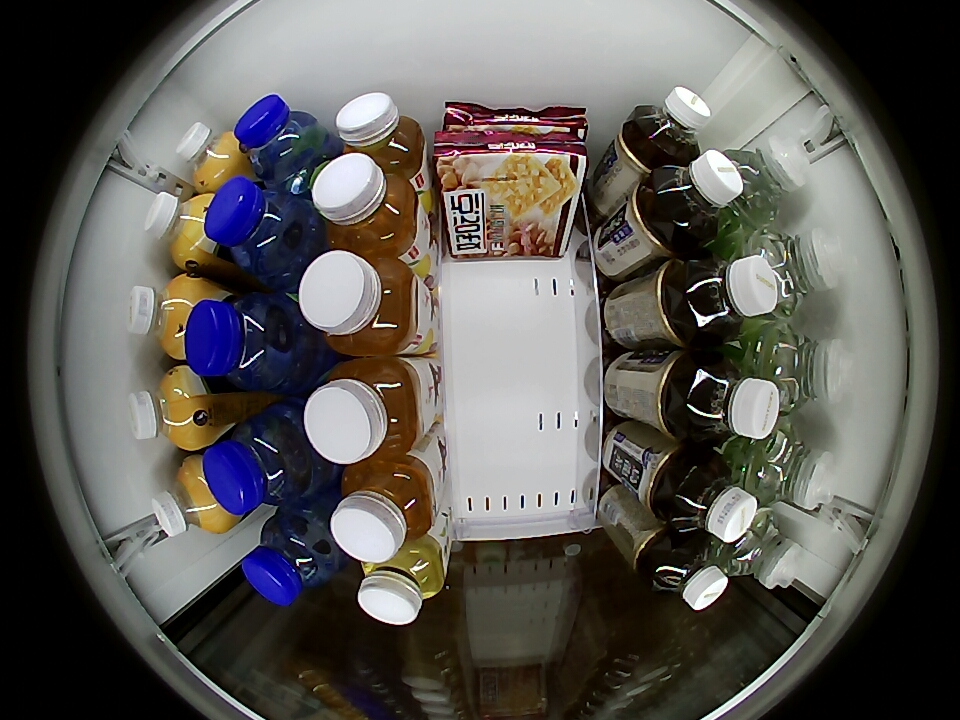asamu: (126, 274, 205, 359), (127, 367, 207, 449), (151, 457, 232, 537), (143, 191, 218, 269), (176, 123, 245, 189)
chapai: (304, 358, 423, 464), (298, 251, 418, 356), (311, 153, 423, 255), (330, 458, 437, 563), (335, 92, 425, 174)
chapai2: (357, 538, 447, 625)
haochidian: (433, 132, 586, 205), (441, 101, 588, 141)
jianjiao: (751, 227, 842, 317), (760, 325, 851, 414), (743, 426, 835, 509), (725, 137, 809, 227), (719, 508, 801, 590)
maidong: (203, 407, 315, 513), (185, 292, 300, 390), (205, 178, 313, 279), (242, 510, 340, 605), (235, 94, 325, 187)
wulongcha: (648, 150, 745, 244), (683, 251, 781, 341), (684, 353, 780, 443), (666, 453, 757, 543), (631, 86, 711, 162), (647, 536, 728, 611)
